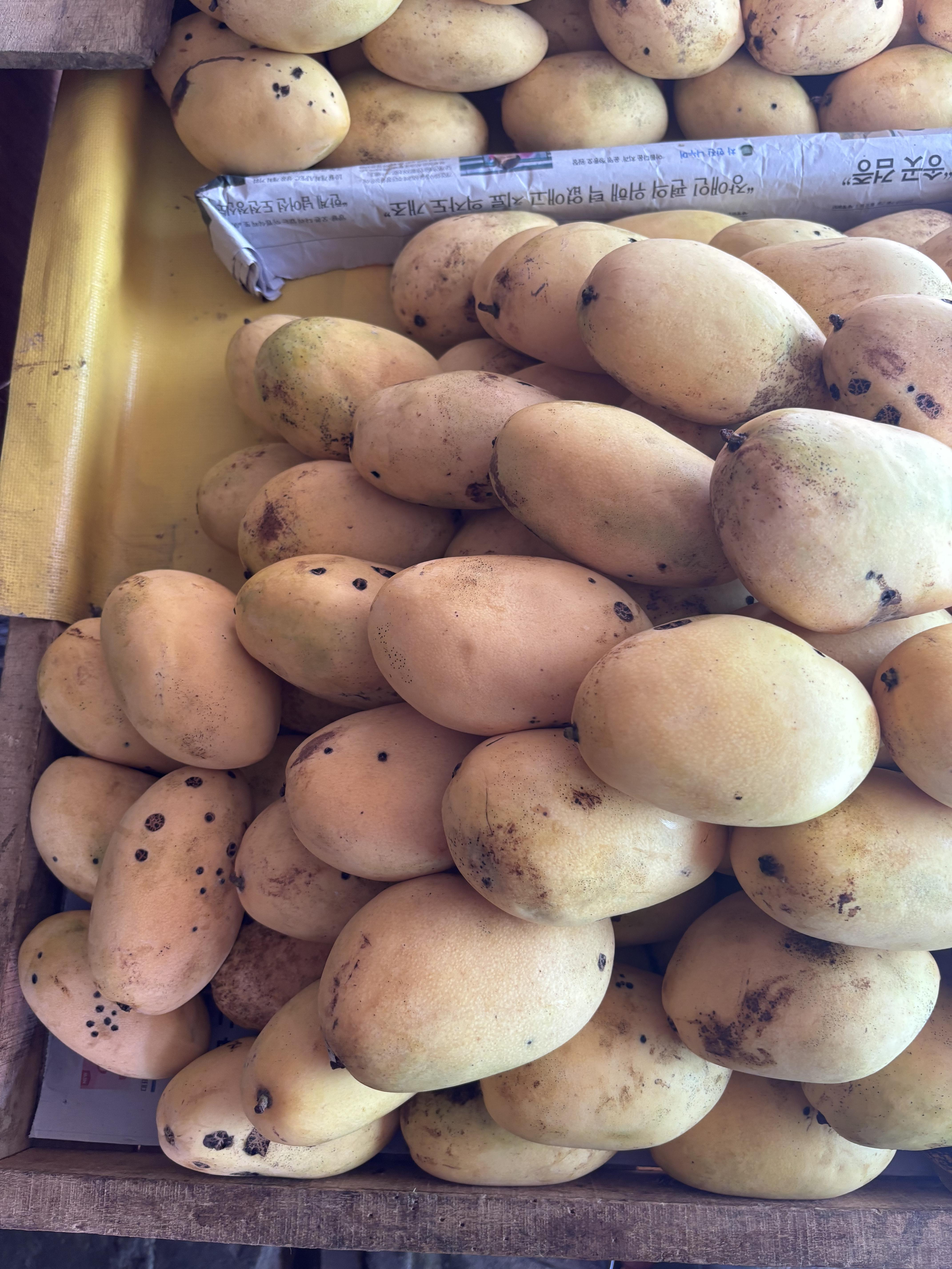mango: (572, 615, 879, 827), (171, 48, 350, 175)
occluded: (310, 874, 613, 1094), (311, 874, 614, 1094), (442, 729, 727, 927), (710, 408, 952, 634), (663, 892, 940, 1083), (368, 555, 651, 736), (367, 555, 650, 736), (577, 239, 824, 428), (481, 963, 730, 1150), (489, 401, 734, 588), (89, 767, 252, 1015), (730, 768, 952, 950), (100, 570, 281, 769), (286, 703, 481, 882), (156, 1038, 398, 1179), (18, 911, 210, 1079), (652, 1072, 894, 1199), (350, 370, 557, 511), (240, 980, 411, 1146), (254, 317, 438, 460), (235, 554, 400, 713), (233, 460, 459, 573), (801, 983, 952, 1150), (230, 799, 387, 946), (485, 222, 637, 373), (391, 211, 556, 348), (37, 618, 181, 774), (400, 1083, 614, 1186), (742, 235, 952, 337), (823, 295, 952, 447), (733, 602, 952, 691), (30, 756, 158, 901), (362, 0, 548, 92), (317, 68, 488, 168), (502, 50, 668, 150), (872, 624, 952, 806), (210, 921, 332, 1031), (674, 49, 819, 139), (196, 441, 308, 553), (589, 0, 744, 79), (742, 0, 902, 75), (819, 43, 952, 132), (192, 0, 400, 53), (225, 313, 298, 440), (152, 11, 251, 104), (612, 874, 717, 947), (473, 228, 543, 333), (445, 508, 572, 562), (621, 394, 723, 459), (615, 578, 753, 624), (709, 218, 843, 258), (521, 362, 628, 406), (522, 0, 604, 56), (609, 209, 740, 244), (845, 209, 952, 249), (438, 337, 536, 375), (917, 0, 952, 51), (920, 227, 952, 280), (364, 778, 365, 779)
